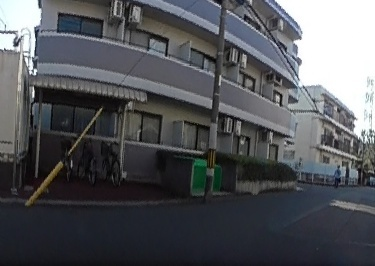person: (333, 162, 342, 187)
